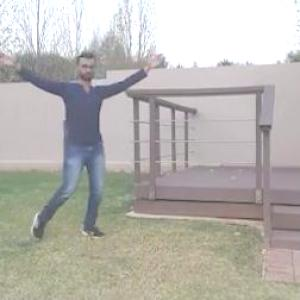takeoff: (0, 53, 169, 248)
